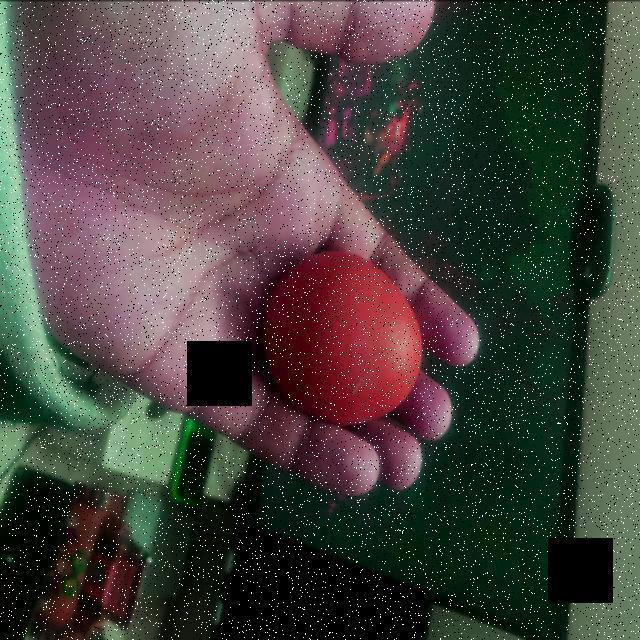egg: (255, 242, 435, 434)
